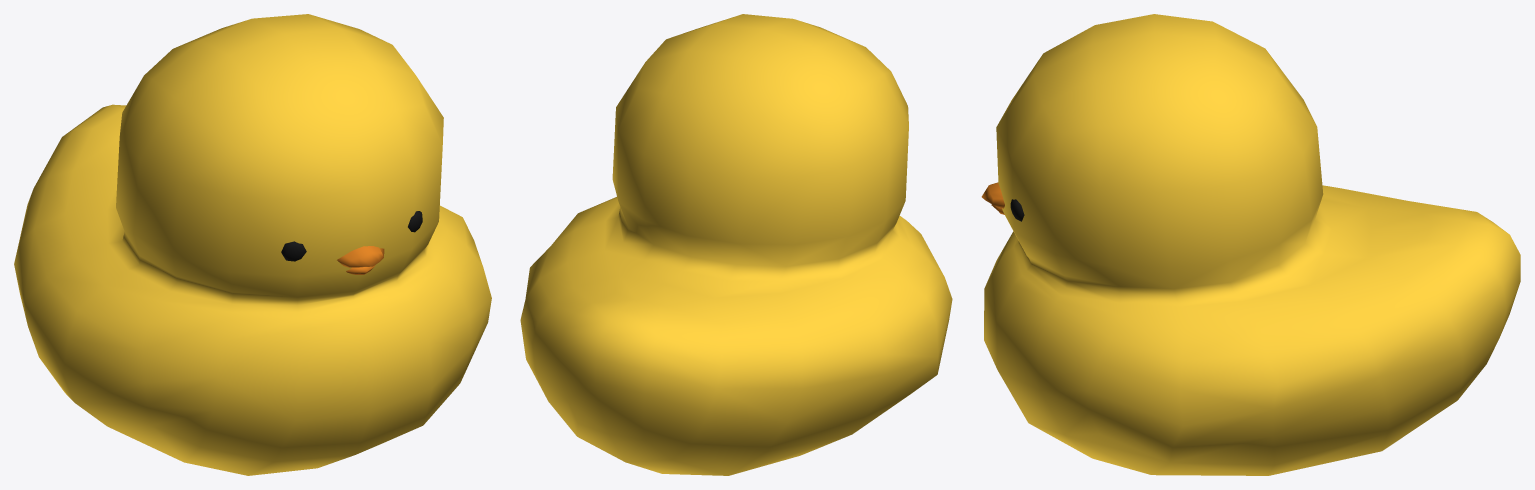
The model's file is SM_RubberDuck_LOD2.fbx.
The picture shows the model from 3 angles, left to right: view 1: azimuth 30°, elevation 25°; view 2: azimuth 150°, elevation 25°; view 3: azimuth 270°, elevation 25°; orthographic projection. The views are drawn at different scales.
Visible parts, largest first — view 1: SM_RubberDuck_LOD2; view 2: SM_RubberDuck_LOD2; view 3: SM_RubberDuck_LOD2.
Part boxes in pixels (left/top/right/bottom): SM_RubberDuck_LOD2: left=14, top=14, right=491, bottom=475; SM_RubberDuck_LOD2: left=520, top=14, right=952, bottom=475; SM_RubberDuck_LOD2: left=981, top=14, right=1520, bottom=475.
Bounding box in the file's own units: 14.75 × 14.49 × 17.06.
